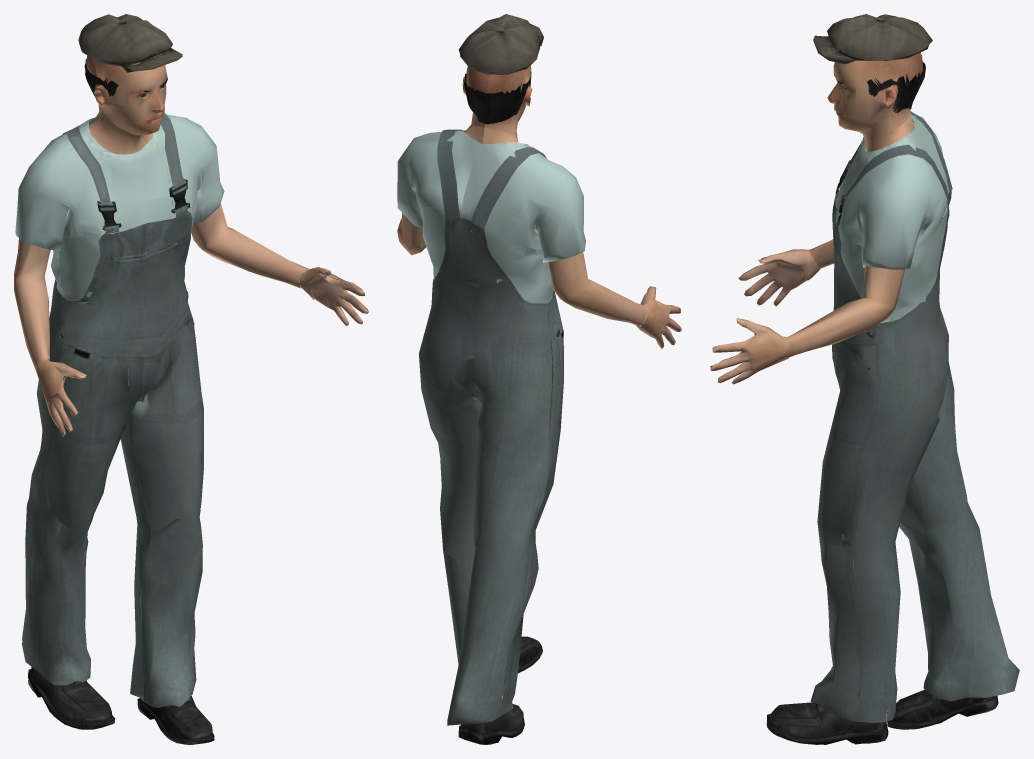
3 views of the same model, side by side, from view 1: azimuth 30°, elevation 25°; view 2: azimuth 150°, elevation 25°; view 3: azimuth 270°, elevation 25° (orthographic). The views are drawn at different scales.
Parts seen in each view (by area): view 1: Modell; view 2: Modell; view 3: Modell.
Part boxes in pixels (left/top/right/bottom): Modell: left=14, top=14, right=368, bottom=744; Modell: left=397, top=14, right=681, bottom=744; Modell: left=710, top=14, right=1019, bottom=744.
Bounding box in the file's own units: 0.7339 × 1.75 × 0.684.
Materials: 7 (7 with a texture image).
